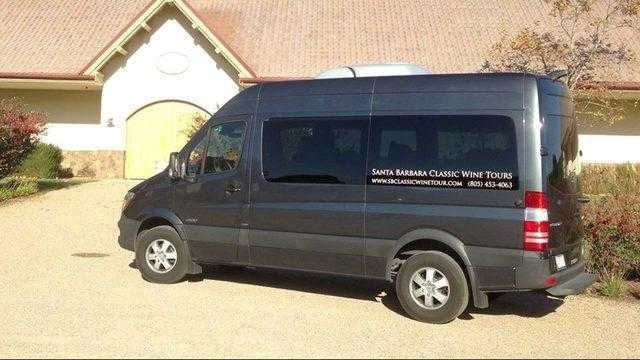van: (117, 72, 598, 326)
